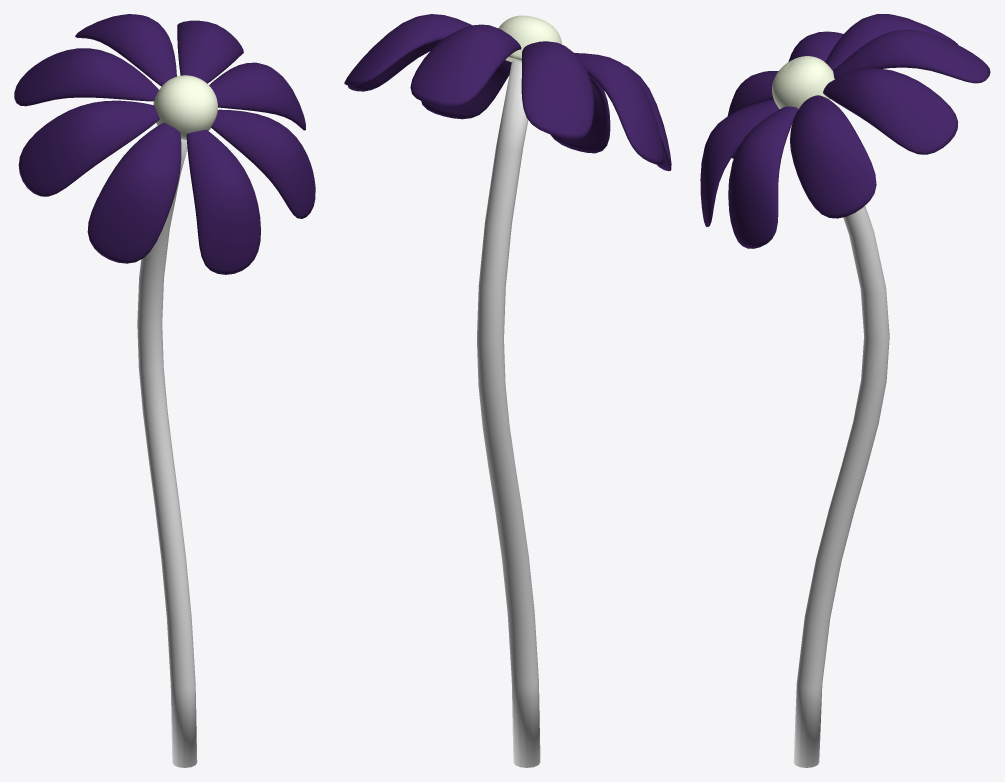
File: floresmale5.fbx
3 views of the same model, side by side, from view 1: azimuth 30°, elevation 25°; view 2: azimuth 150°, elevation 25°; view 3: azimuth 270°, elevation 25° (orthographic). The views are drawn at different scales.
Visible parts, largest first — view 1: BézierCurve.008, Cube.105, Cube.104, Cube.106, Cube.107, Cube.103, Cube.100, Cube.102, Cube.101, Cylinder.010; view 2: BézierCurve.008, Cube.107, Cube.100, Cube.106, Cube.101, Cube.104, Cube.103, Cylinder.010, Cube.102, Cube.105; view 3: BézierCurve.008, Cube.102, Cube.101, Cube.103, Cube.100, Cube.104, Cylinder.010, Cube.107, Cube.105, Cube.106.
Boxes of the visible parts, x1,y1,x2,y2 form: BézierCurve.008: (137,139,197,767); Cube.105: (87,122,181,263); Cube.104: (186,129,260,274); Cube.106: (18,100,159,196); Cube.107: (14,48,158,106); Cube.103: (211,109,315,218); Cube.100: (75,14,176,86); Cube.102: (209,62,305,130); Cube.101: (177,20,243,83); Cylinder.010: (153,75,217,139); BézierCurve.008: (477,60,540,767); Cube.107: (521,41,594,139); Cube.100: (410,24,521,106); Cube.106: (574,53,663,164); Cube.101: (344,14,472,85); Cube.104: (550,52,610,153); Cube.103: (421,60,511,119); Cylinder.010: (498,15,561,62); Cube.102: (348,40,441,91); Cube.105: (624,65,671,171); BézierCurve.008: (793,205,889,767); Cube.102: (790,95,876,218); Cube.101: (823,68,958,154); Cube.103: (728,106,798,248); Cube.100: (833,29,990,83); Cube.104: (700,99,779,226); Cylinder.010: (772,56,834,109); Cube.107: (825,14,957,70); Cube.105: (727,71,778,158); Cube.106: (788,31,843,71).
Size of the model in its own units: 30.8 by 75.1 by 27.08.
